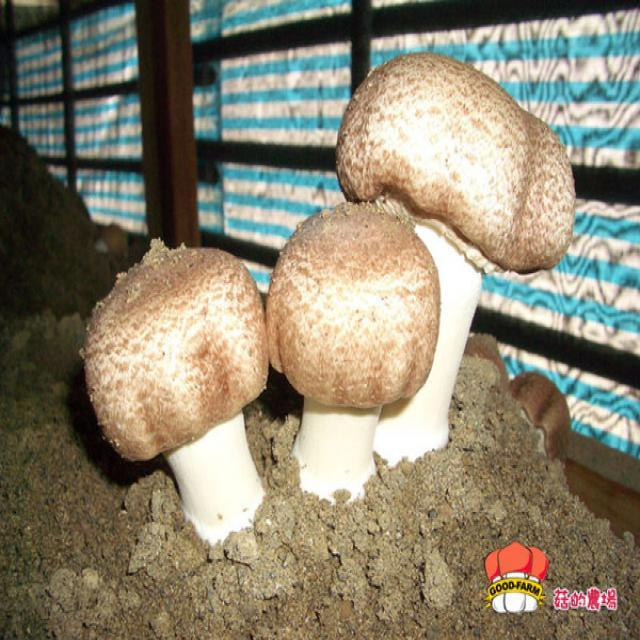Agaricus blazei Murill: (339, 49, 573, 470), (82, 245, 271, 542), (266, 211, 440, 509)
